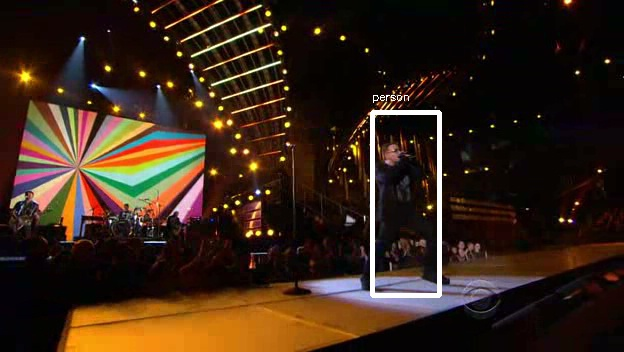person: (371, 139, 430, 244), (368, 139, 427, 244), (374, 139, 433, 244), (371, 136, 430, 241), (371, 142, 430, 247)
target_negative: (226, 180, 564, 274), (236, 35, 288, 240), (472, 11, 492, 276), (286, 328, 435, 343), (33, 161, 168, 169), (525, 37, 555, 58)
